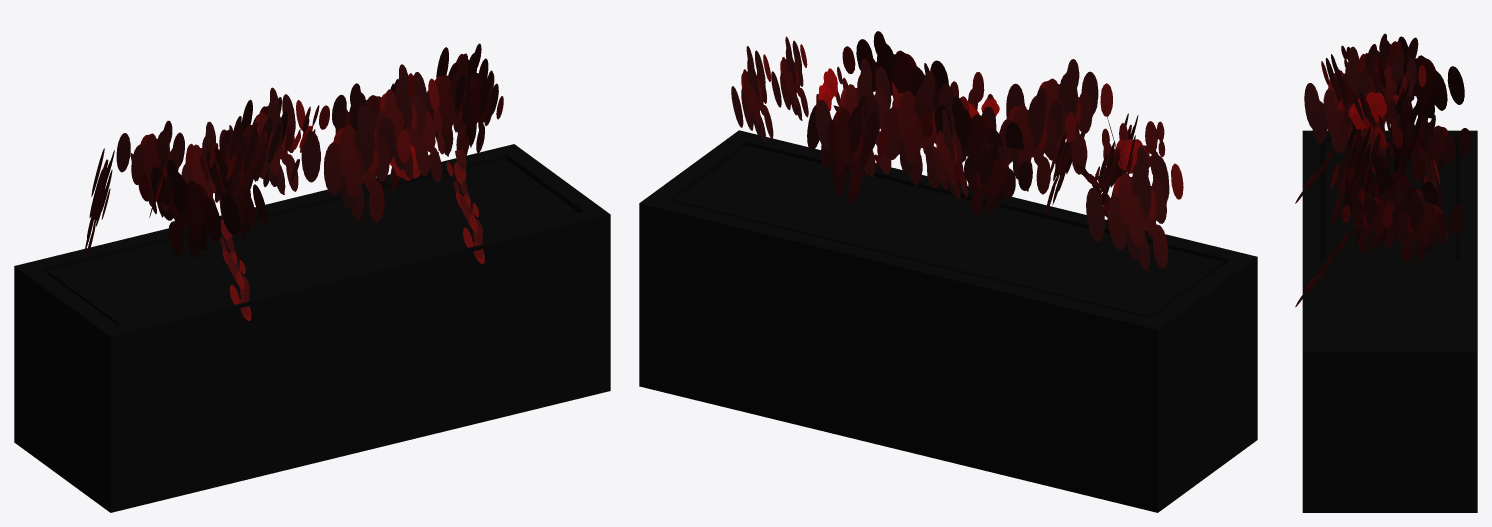
File: prop_haven_planter_a.glb
3 views of the same model, side by side, from view 1: azimuth 30°, elevation 25°; view 2: azimuth 150°, elevation 25°; view 3: azimuth 270°, elevation 25° (orthographic). The views are drawn at different scales.
Visible parts, largest first — view 1: prop_haven_planter_a; view 2: prop_haven_planter_a; view 3: prop_haven_planter_a.
Part boxes in pixels (bbox=[...]): prop_haven_planter_a: bbox=[14, 43, 610, 512]; prop_haven_planter_a: bbox=[639, 31, 1257, 512]; prop_haven_planter_a: bbox=[1295, 33, 1477, 512].
Bounding box in the file's own units: 1.2 × 0.8062 × 0.4373.
1 material, 1 textured.
